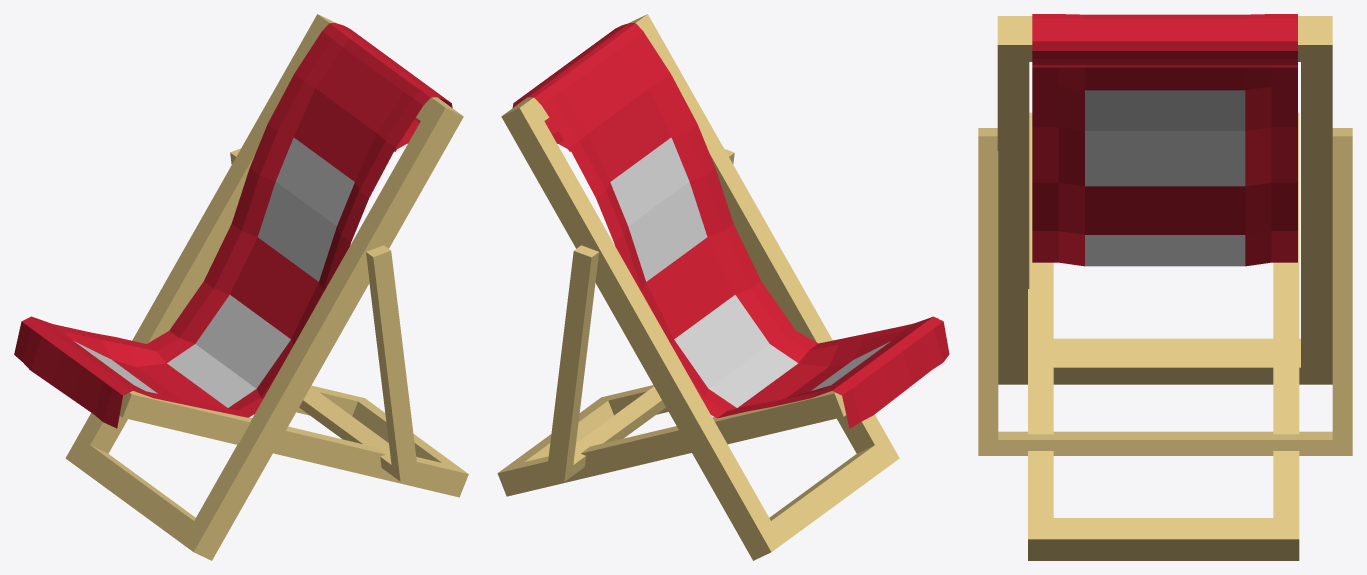
Rendered from BeachChair_4.fbx.
3 renders of one model, left to right at view 1: azimuth 30°, elevation 25°; view 2: azimuth 150°, elevation 25°; view 3: azimuth 270°, elevation 25°, orthographic. The views are drawn at different scales.
Parts seen in each view (by area): view 1: Cloth, Frame, Frame.001, Frame.002; view 2: Cloth, Frame, Frame.001, Frame.002; view 3: Cloth, Frame, Frame.001, Frame.002.
Part boxes in pixels (bbox=[...]): Cloth: bbox=[14, 23, 452, 428]; Frame: bbox=[65, 14, 463, 560]; Frame.001: bbox=[119, 385, 468, 497]; Frame.002: bbox=[230, 148, 418, 481]; Cloth: bbox=[512, 23, 949, 428]; Frame: bbox=[501, 14, 899, 560]; Frame.001: bbox=[497, 317, 947, 496]; Frame.002: bbox=[546, 149, 734, 481]; Cloth: bbox=[1032, 14, 1297, 266]; Frame: bbox=[997, 16, 1332, 384]; Frame.001: bbox=[1028, 112, 1299, 560]; Frame.002: bbox=[978, 128, 1352, 455].
Bounding box in the file's own units: 96.01 × 105 × 66.99.
